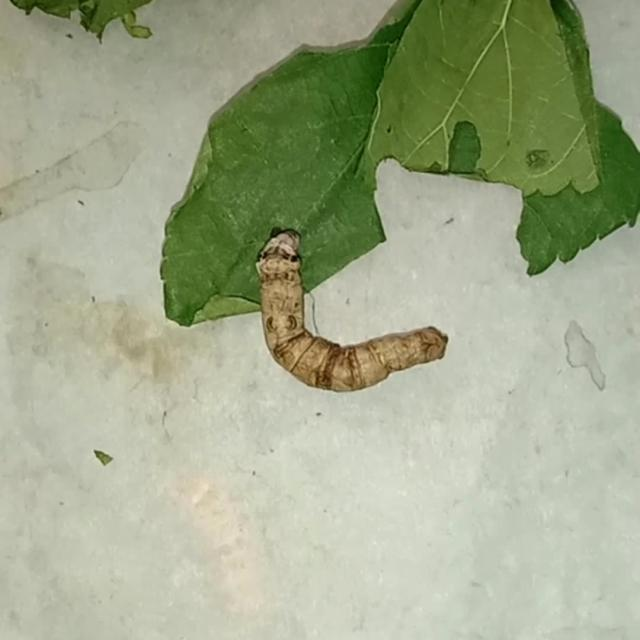Grasserie: (212, 188, 486, 418)
